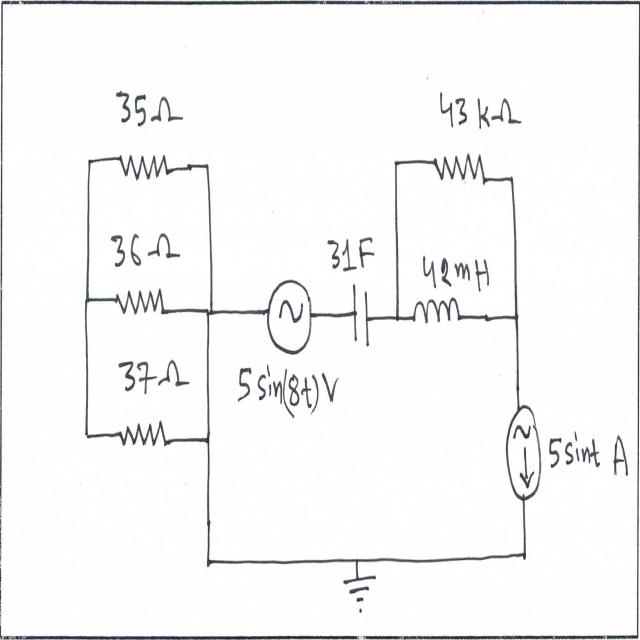ac_current: (264, 258, 320, 363)
capacitor: (350, 278, 372, 365)
current_source: (503, 396, 547, 514)
ground: (339, 571, 379, 616)
inductor: (408, 282, 463, 339)
resistor: (432, 139, 489, 207), (110, 282, 172, 334), (112, 139, 174, 191), (115, 406, 172, 461)
